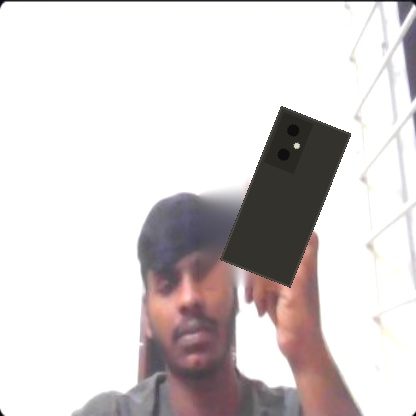cell_phone: (220, 106, 351, 288)
